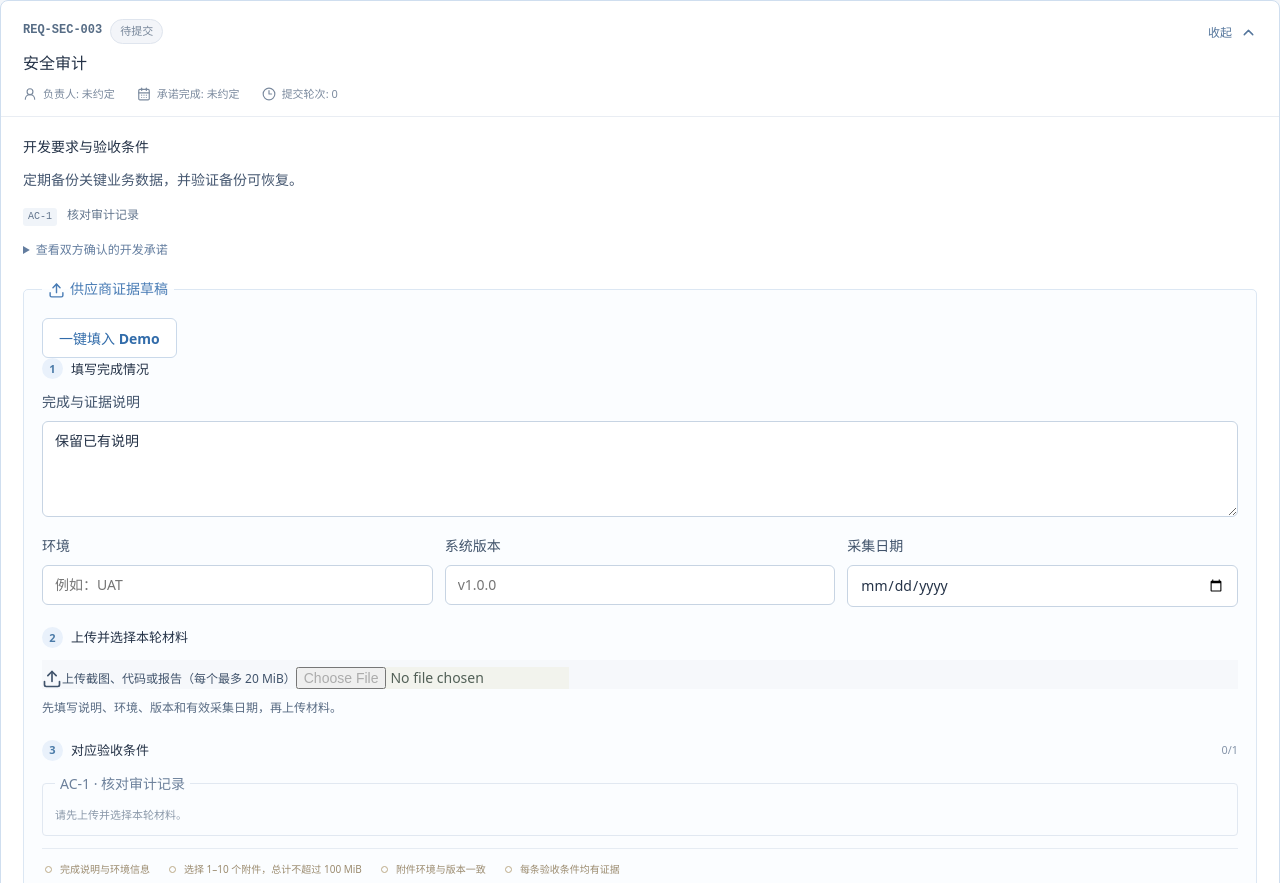
Test: fills actual audit evidence as an editable draft, maps the criterion, and restores original text on undo
Click the button "一键填入 Demo": click(109, 338) [42, 318, 177, 358]
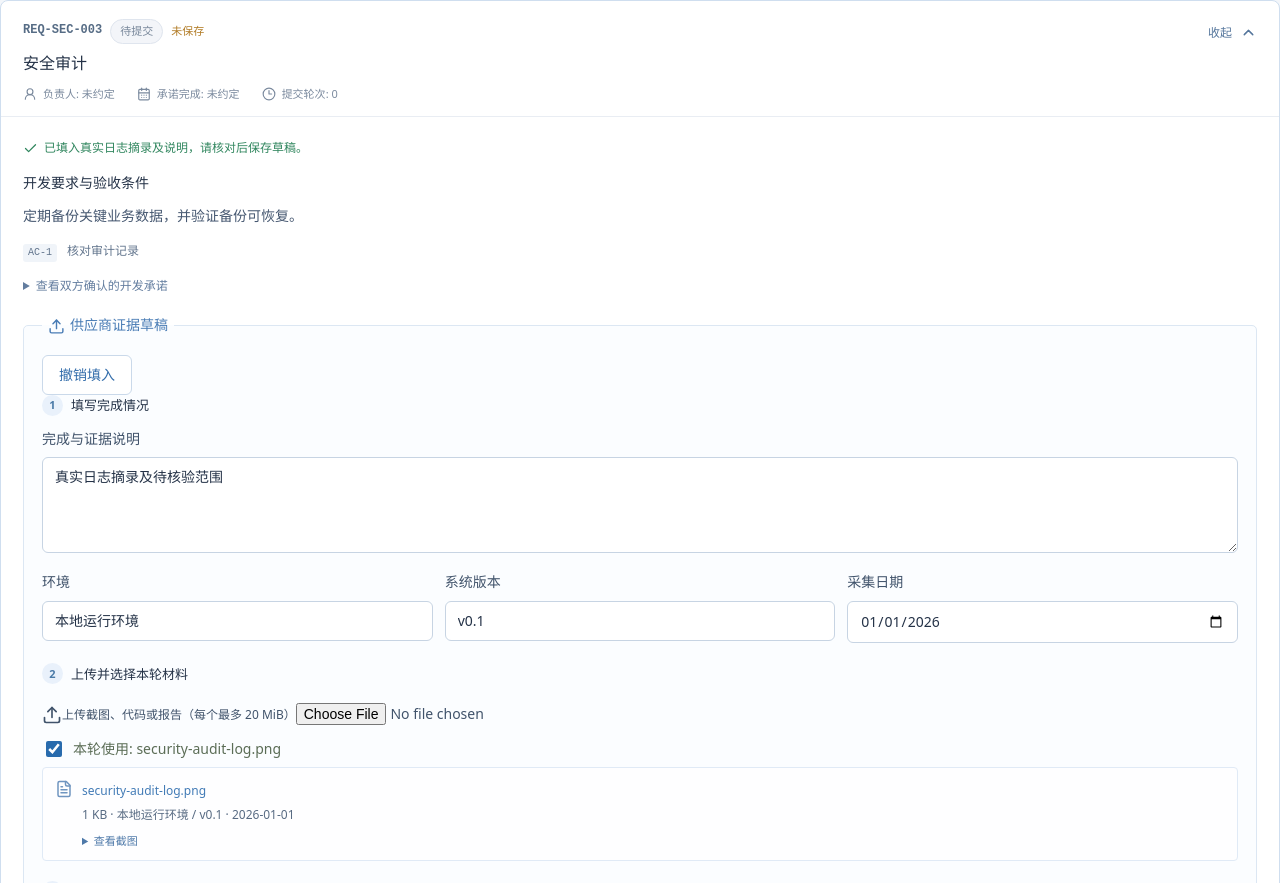
Check: the text box labelled "完成与证据说明" holds "真实日志摘录及待核验范围", box [42, 457, 1238, 553]
Click the button "撤销填入": click(87, 375) [42, 355, 132, 395]
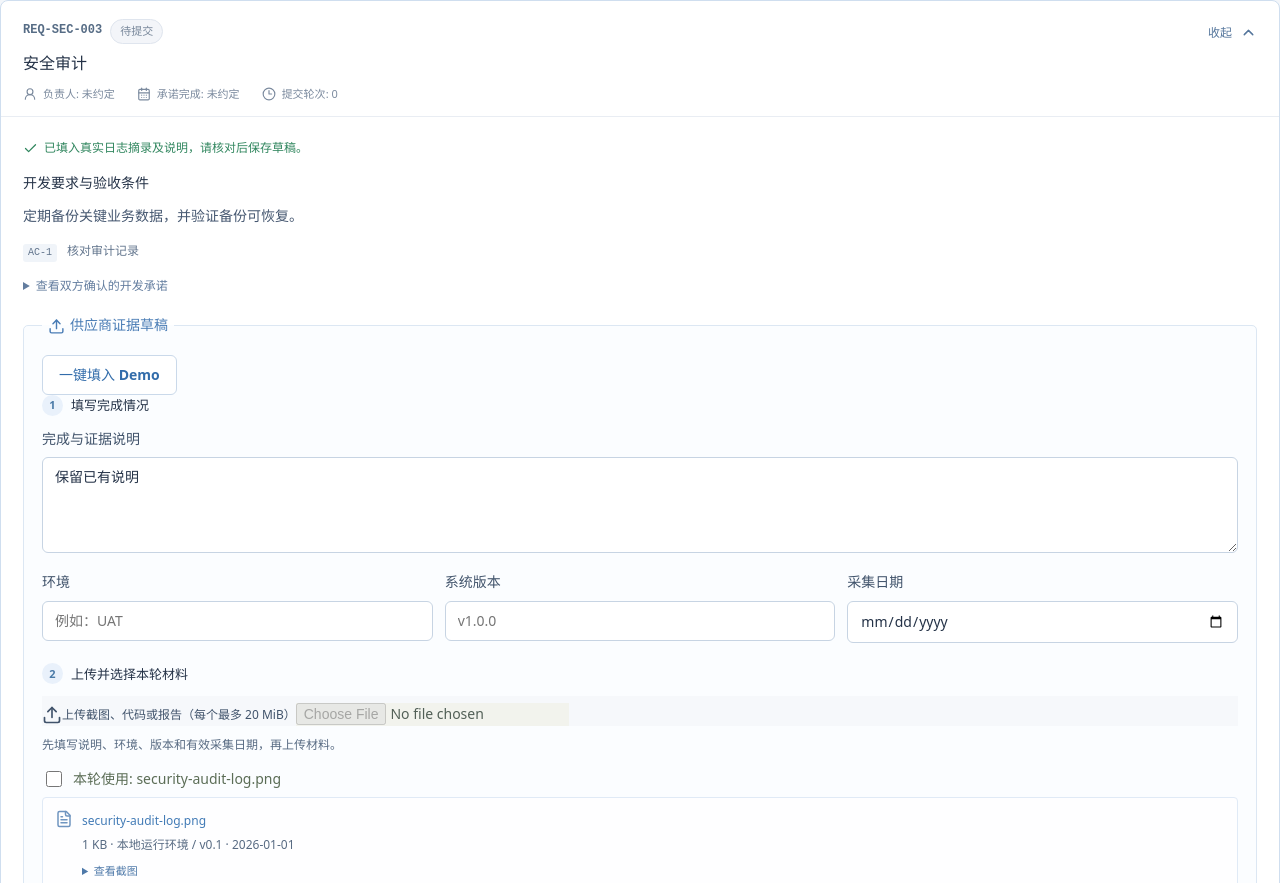
Check: the text box labelled "完成与证据说明" holds "保留已有说明", box [42, 457, 1238, 553]
